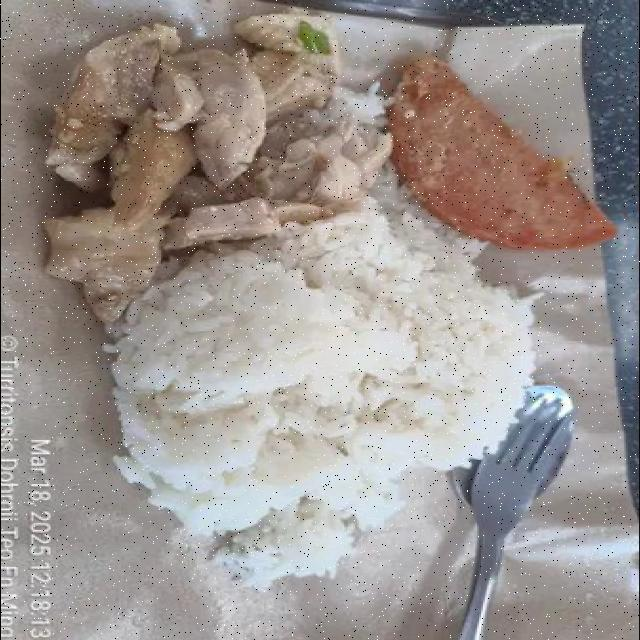Chicken: (48, 11, 390, 319)
Pork: (389, 56, 615, 249)
Rice: (107, 163, 537, 589), (337, 83, 383, 140)
